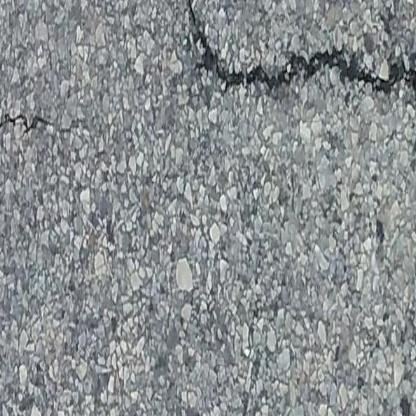Cracks: (181, 0, 416, 118), (0, 99, 75, 151)
